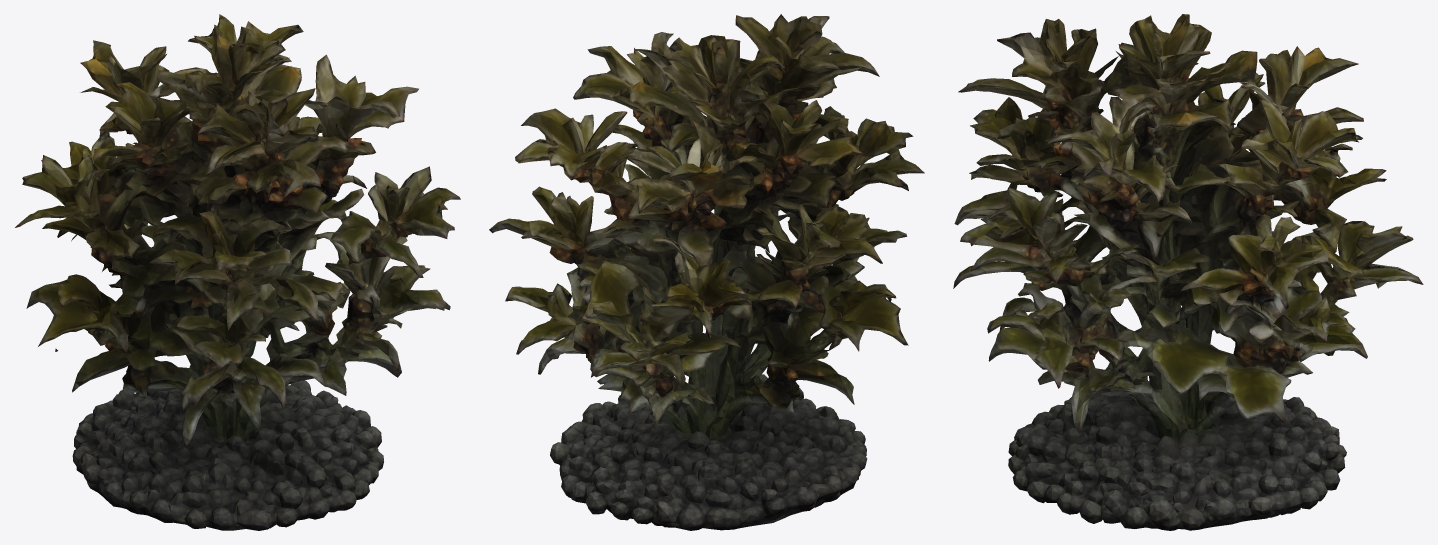
File: crop_klingon_coffee.glb
The picture shows the model from 3 angles, left to right: view 1: azimuth 30°, elevation 25°; view 2: azimuth 150°, elevation 25°; view 3: azimuth 270°, elevation 25°; orthographic projection. The views are drawn at different scales.
Parts seen in each view (by area): view 1: world; view 2: world; view 3: world.
Part boxes in pixels (left/top/right/bottom): world: left=15, top=14, right=460, bottom=530; world: left=489, top=14, right=924, bottom=530; world: left=953, top=14, right=1423, bottom=530.
Bounding box in the file's own units: 0.7311 × 0.8399 × 0.7926.
Materials: 1 (1 with a texture image).
